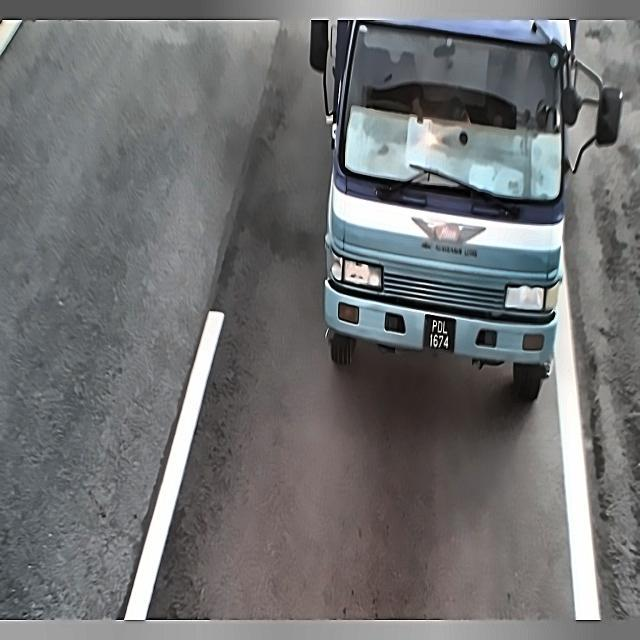car: (419, 306, 459, 360)
